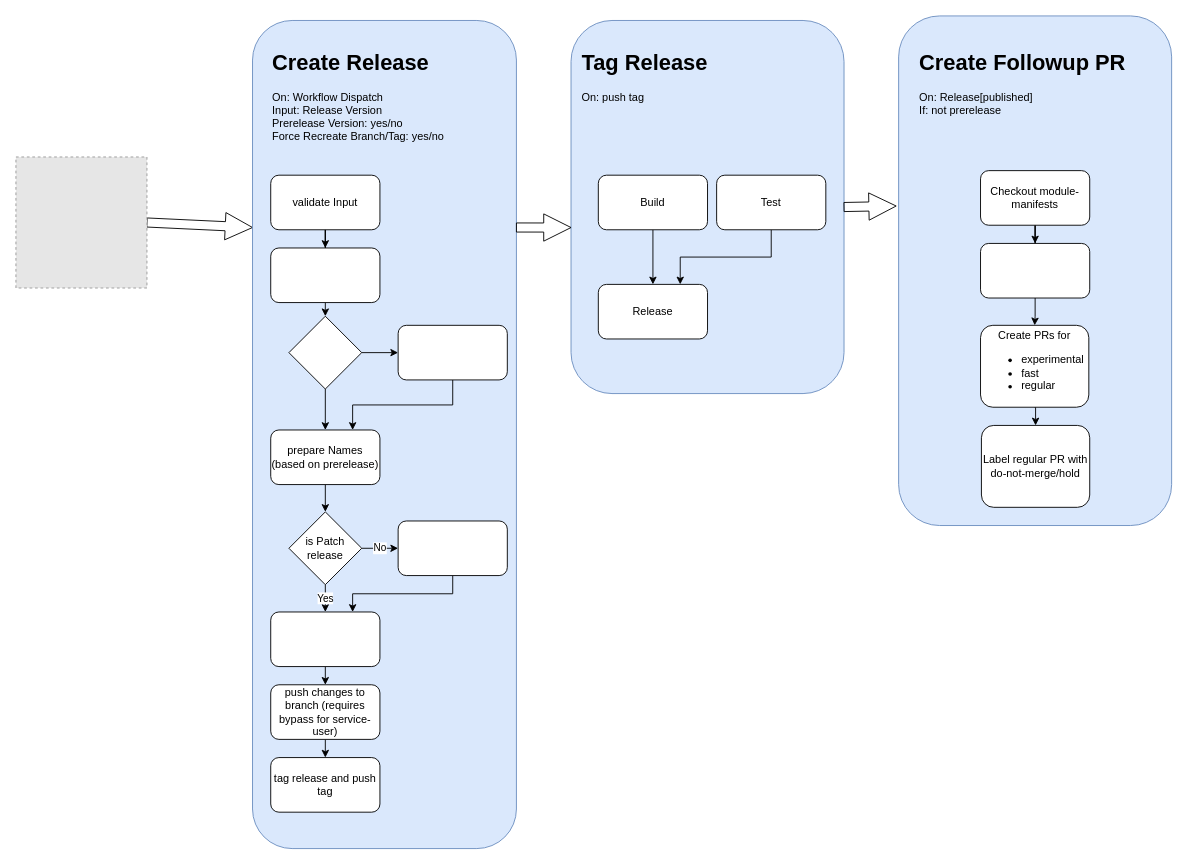
This 1188x865 diagram has some shape labels left out. Grey dashed boxes stand in for pictures. The shapes that lost their labels are listed below. From the top down, each one's centre as x and y in pixels, then its label:
At point 325,275: "check milestone closed".
At point 1035,270: "bump version information in module folders".
At point 325,352: "force Release Creation".
At point 452,352: "cleanup previous artifacts".
At point 452,548: "create Branch".
At point 325,639: "update files with version (.env, main.go ..) run `make generate`".
